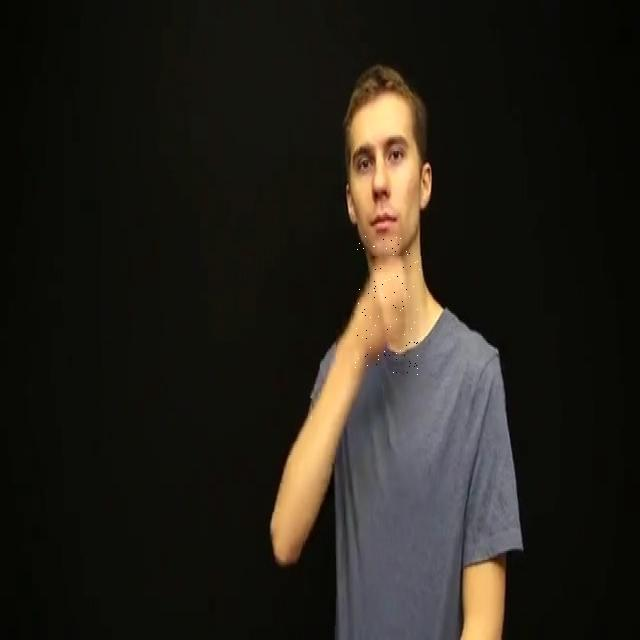icecream: (354, 235, 420, 375)
